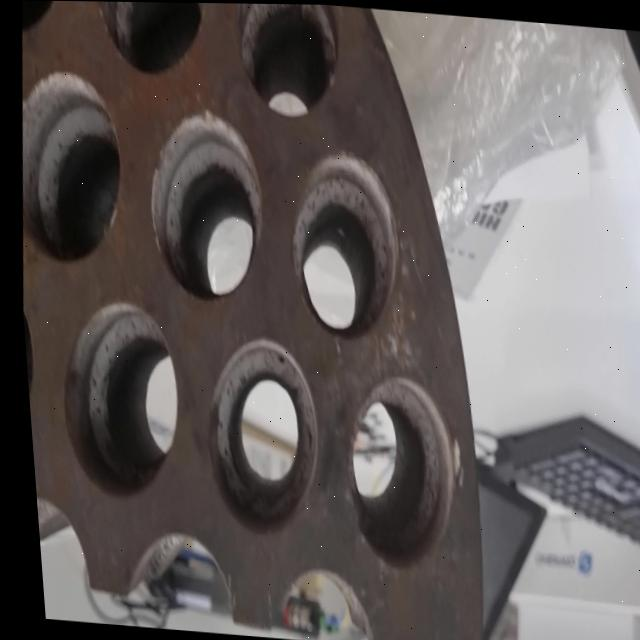Hole: (44, 297, 184, 507), (188, 331, 323, 541), (134, 104, 270, 309), (327, 373, 466, 573), (275, 147, 406, 343), (7, 69, 131, 270), (229, 3, 346, 121), (90, 1, 210, 81)
